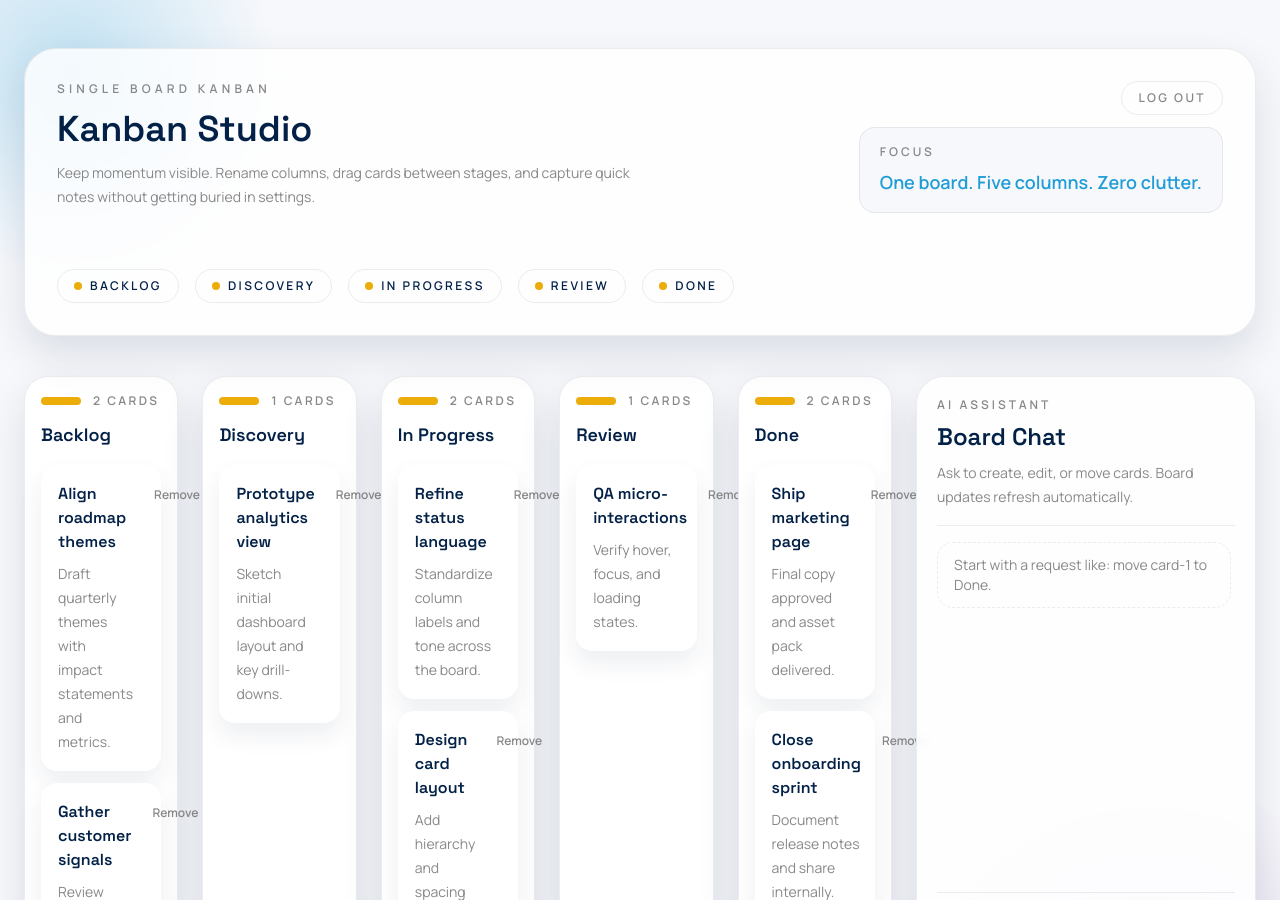
KanbanBoard › shows retry button when board save fails
This screenshot has width=1280, height=900.
Replace the text in the 1st field named "Column title" with "Error trigger" at coordinates (101, 435), box [41,421,161,449]
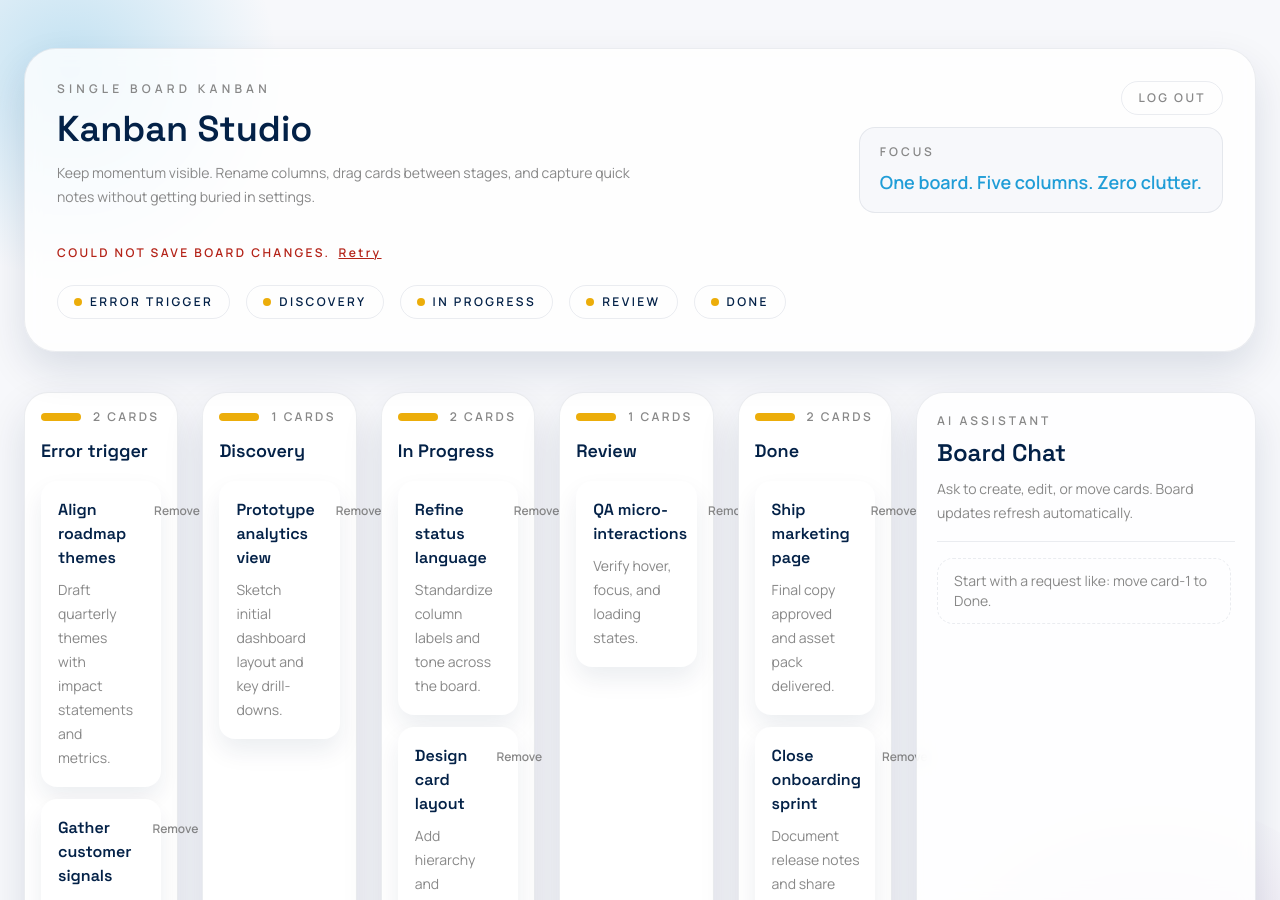
Expected: the button "Retry" is shown, [338,245,382,261]
